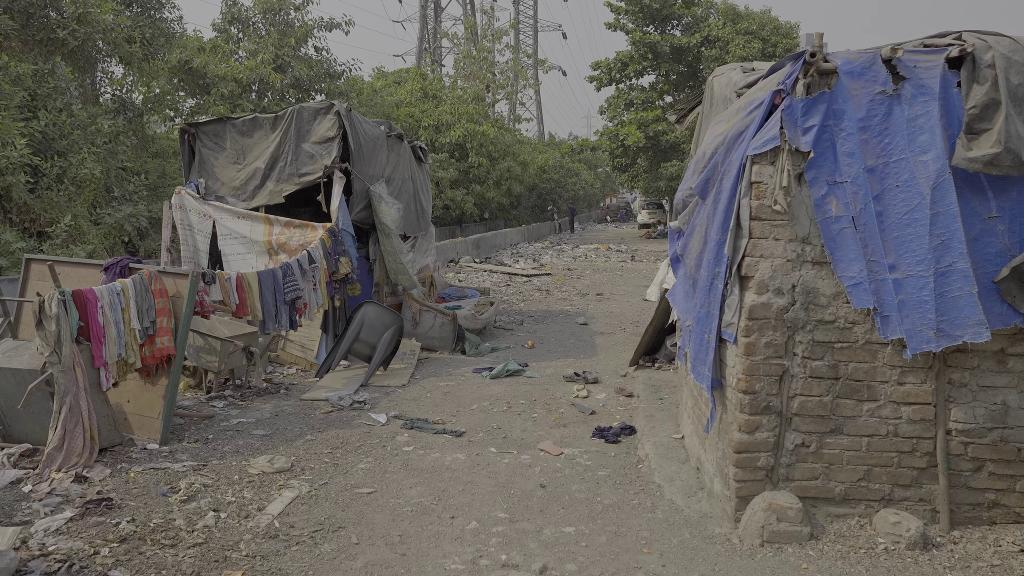garbage: (396, 414, 468, 442), (248, 449, 295, 479), (591, 421, 639, 447), (533, 439, 569, 461), (366, 409, 391, 430), (522, 340, 537, 349)
